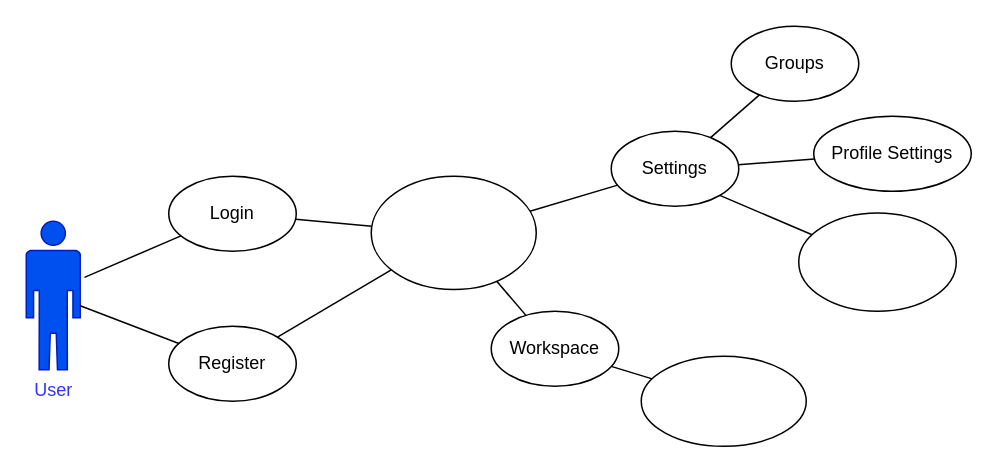
This 998x473 diagram has some shape labels left out. The centre of each missing label's shape, as x and y in pixels:
Member management: the point at 723,400
MyWorkspaces: the point at 453,232
Sharing settings: the point at 876,261
